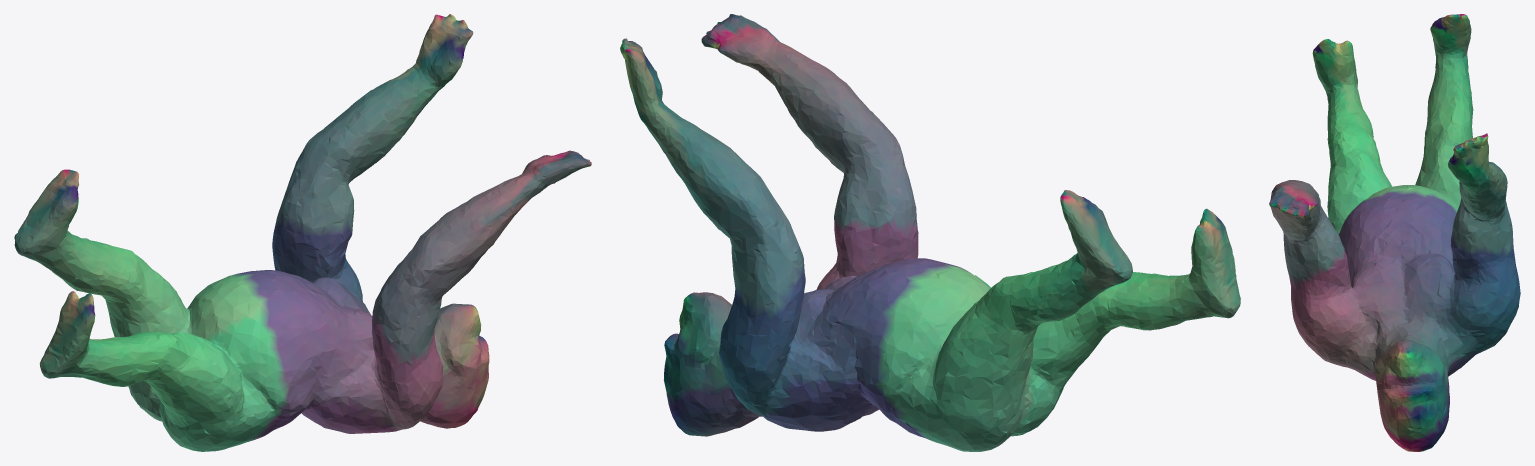
The model's file is gorilla-11.off.obj.
3 renders of one model, left to right at view 1: azimuth 30°, elevation 25°; view 2: azimuth 150°, elevation 25°; view 3: azimuth 270°, elevation 25°, orthographic. The views are drawn at different scales.
Bounding box in the file's own units: 1.56 × 1.09 × 0.7553.
